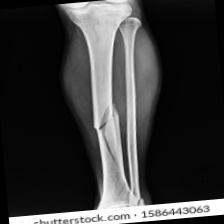spiral-fracture: (47, 0, 174, 212)
